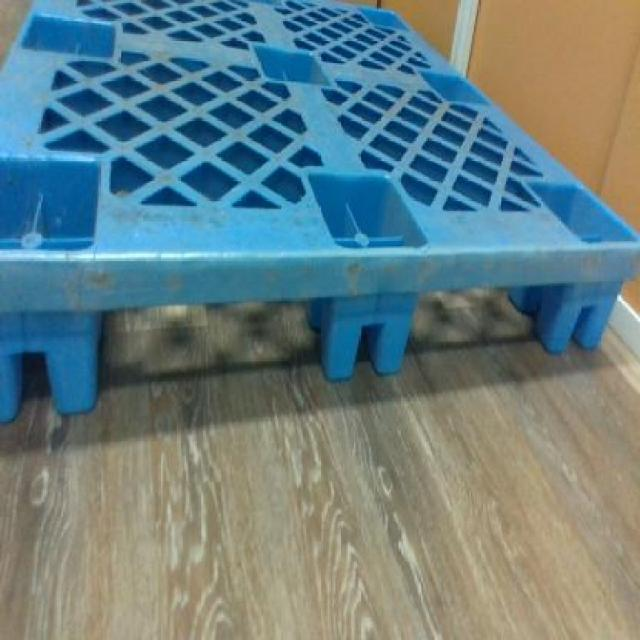block: (0, 311, 106, 418), (327, 291, 420, 381), (558, 275, 628, 356)
front: (0, 244, 640, 426)
